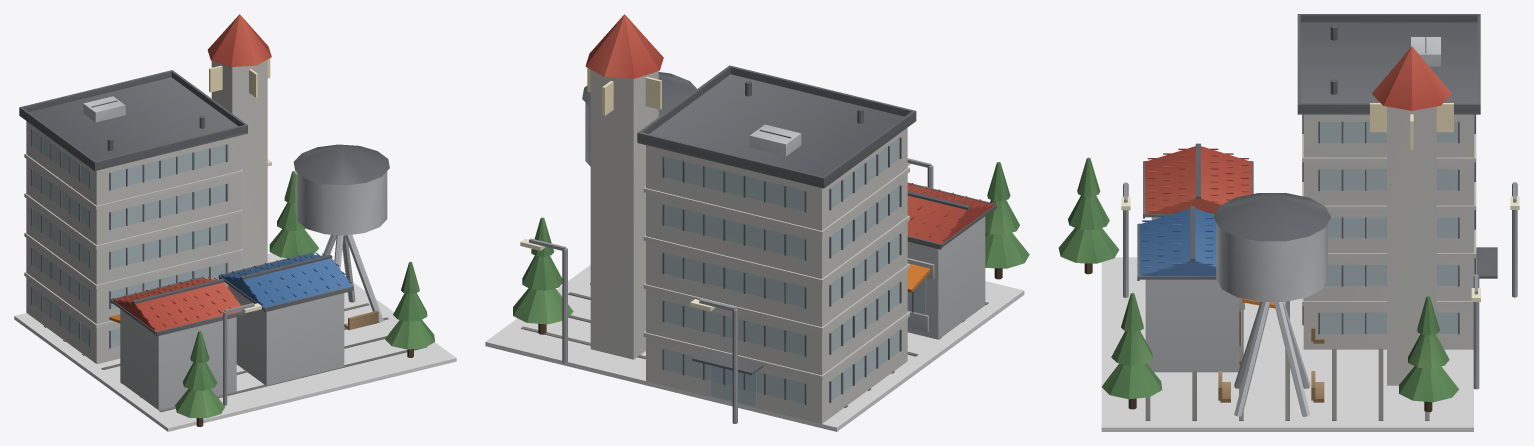
File: Civic_P3.fbx
The picture shows the model from 3 angles, left to right: view 1: azimuth 30°, elevation 25°; view 2: azimuth 150°, elevation 25°; view 3: azimuth 270°, elevation 25°; orthographic projection. The views are drawn at different scales.
Parts seen in each view (by area): view 1: Civic.Hall, Civic.Shop1, Civic.Shop0, Civic.Plaza, Civic.WaterTower, Civic.Tower, Civic.Tree2, Civic.Tree1, Civic.Tree0, Civic.Paving, Civic.Lamp0, Civic.Benches; view 2: Civic.Hall, Civic.Tower, Civic.Plaza, Civic.Shop0, Civic.Tree0, Civic.Tree2, Civic.WaterTower, Civic.Lamp1, Civic.Lamp2; view 3: Civic.Hall, Civic.Plaza, Civic.Tower, Civic.WaterTower, Civic.Shop1, Civic.Shop0, Civic.Tree2, Civic.Tree0, Civic.Tree1, Civic.Paving, Civic.Lamp1, Civic.Benches (+2 smaller).
Boxes of the visible parts, x1=… form: Civic.Hall: x1=19, y1=70, x2=247, y2=363; Civic.Shop1: x1=218, y1=252, x2=353, y2=385; Civic.Shop0: x1=109, y1=276, x2=245, y2=410; Civic.Plaza: x1=14, y1=253, x2=456, y2=431; Civic.WaterTower: x1=293, y1=144, x2=389, y2=322; Civic.Tower: x1=207, y1=14, x2=271, y2=269; Civic.Tree2: x1=175, y1=331, x2=224, y2=426; Civic.Tree1: x1=385, y1=261, x2=434, y2=357; Civic.Tree0: x1=269, y1=171, x2=318, y2=257; Civic.Paving: x1=43, y1=303, x2=426, y2=412; Civic.Lamp0: x1=223, y1=303, x2=261, y2=405; Civic.Benches: x1=344, y1=311, x2=378, y2=330; Civic.Hall: x1=637, y1=65, x2=916, y2=423; Civic.Tower: x1=585, y1=14, x2=663, y2=359; Civic.Plaza: x1=485, y1=265, x2=1024, y2=431; Civic.Shop0: x1=907, y1=182, x2=996, y2=339; Civic.Tree0: x1=513, y1=217, x2=573, y2=334; Civic.Tree2: x1=985, y1=162, x2=1029, y2=279; Civic.WaterTower: x1=582, y1=72, x2=696, y2=284; Civic.Lamp1: x1=520, y1=238, x2=567, y2=363; Civic.Lamp2: x1=690, y1=299, x2=737, y2=423; Civic.Hall: x1=1297, y1=14, x2=1497, y2=349; Civic.Plaza: x1=1101, y1=257, x2=1473, y2=431; Civic.Tower: x1=1370, y1=46, x2=1453, y2=385; Civic.WaterTower: x1=1213, y1=193, x2=1330, y2=416; Civic.Shop1: x1=1137, y1=206, x2=1275, y2=372; Civic.Shop0: x1=1143, y1=143, x2=1253, y2=309; Civic.Tree2: x1=1058, y1=157, x2=1119, y2=274; Civic.Tree0: x1=1399, y1=296, x2=1458, y2=412; Civic.Tree1: x1=1102, y1=293, x2=1162, y2=409; Civic.Paving: x1=1145, y1=280, x2=1429, y2=420; Civic.Lamp1: x1=1471, y1=274, x2=1480, y2=389; Civic.Benches: x1=1218, y1=327, x2=1324, y2=402.
Size of the model in its own units: 2600 by 2371 by 2970.
